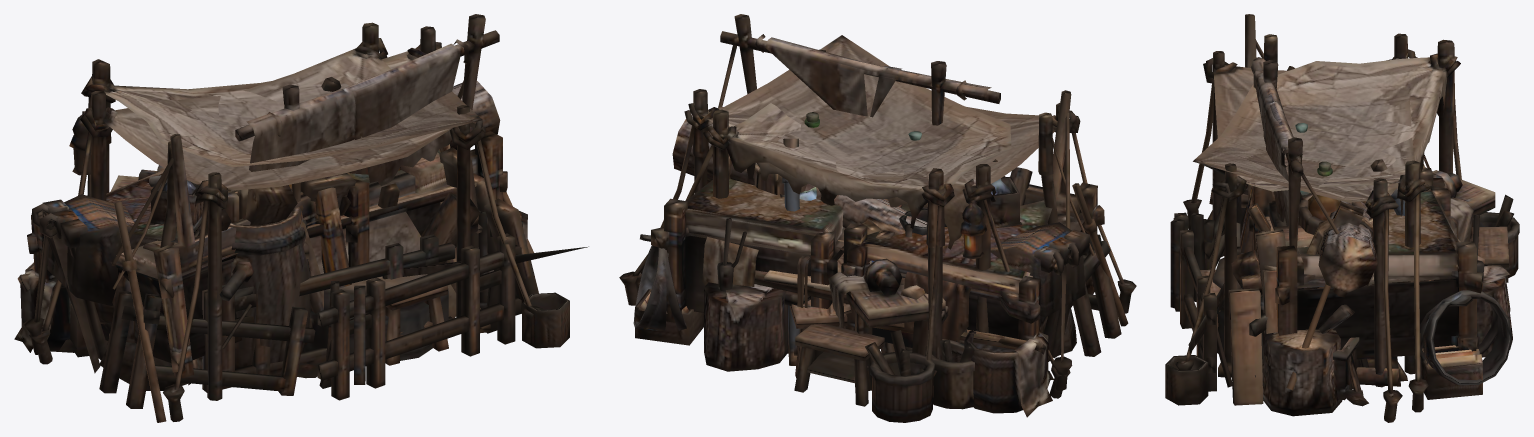
Rendered from kit-camp-stations.glb.
3 renders of one model, left to right at view 1: azimuth 30°, elevation 25°; view 2: azimuth 150°, elevation 25°; view 3: azimuth 270°, elevation 25°, orthographic. The views are drawn at different scales.
Visible parts, largest first — view 1: stations_03_tanning_vats, stations_04_forge, stations_05_map_table, stations_06_cooper, stations_02_alchemy_table, stations_01_sawhorse; view 2: stations_03_tanning_vats, stations_04_forge, stations_05_map_table, stations_06_cooper, stations_01_sawhorse, stations_02_alchemy_table; view 3: stations_04_forge, stations_03_tanning_vats, stations_06_cooper, stations_05_map_table, stations_01_sawhorse, stations_02_alchemy_table.
Part boxes in pixels (bbox=[...]): stations_03_tanning_vats: bbox=[14, 14, 533, 422]; stations_04_forge: bbox=[23, 26, 522, 408]; stations_05_map_table: bbox=[29, 22, 588, 421]; stations_06_cooper: bbox=[94, 147, 569, 400]; stations_02_alchemy_table: bbox=[143, 152, 476, 368]; stations_01_sawhorse: bbox=[17, 77, 527, 344]; stations_03_tanning_vats: bbox=[651, 14, 1128, 417]; stations_04_forge: bbox=[635, 35, 1121, 397]; stations_05_map_table: bbox=[619, 49, 1136, 406]; stations_06_cooper: bbox=[633, 164, 1076, 422]; stations_01_sawhorse: bbox=[672, 114, 1045, 365]; stations_02_alchemy_table: bbox=[780, 112, 1022, 377]; stations_04_forge: bbox=[1170, 34, 1512, 422]; stations_03_tanning_vats: bbox=[1208, 14, 1482, 390]; stations_06_cooper: bbox=[1165, 164, 1519, 405]; stations_05_map_table: bbox=[1175, 33, 1510, 412]; stations_01_sawhorse: bbox=[1218, 159, 1405, 416]; stations_02_alchemy_table: bbox=[1200, 123, 1484, 381].
Size of the model in its own units: 4.53 by 2.6 by 3.26.
Materials: 1 (1 with a texture image).
